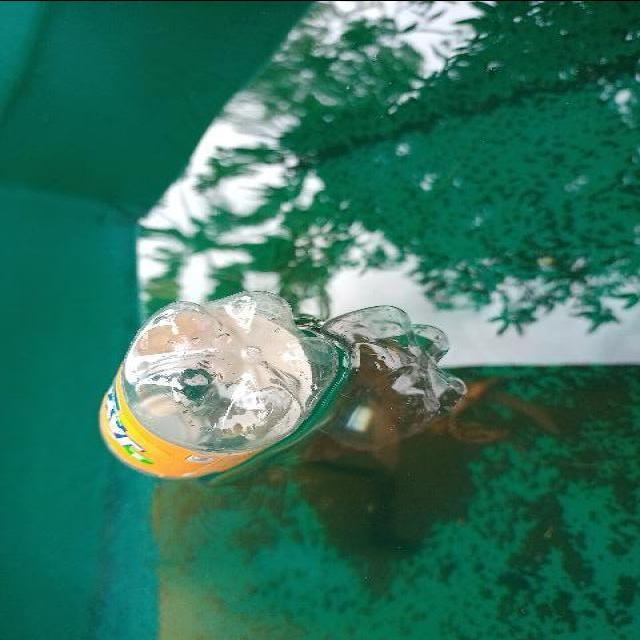Bottle: (86, 280, 350, 489)
